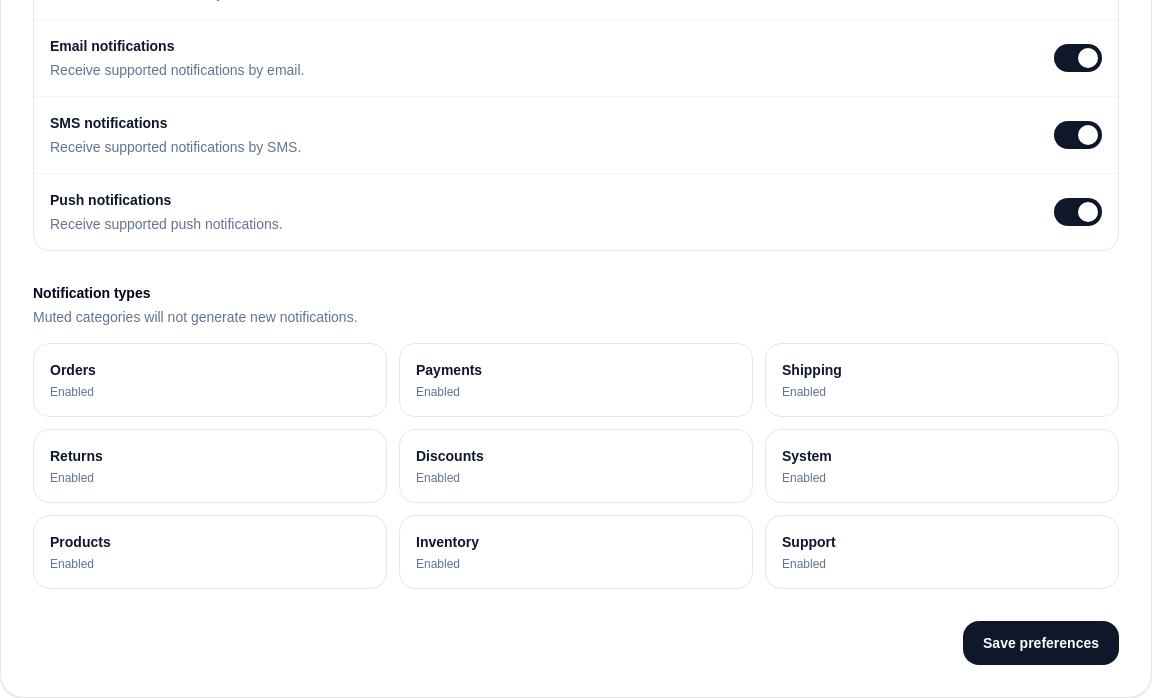
Test: NotificationPreferencesCard › shows API error when preferences cannot be saved
This screenshot has width=1152, height=698.
(page scrolled)
Click the button "Save preferences": (1041, 643) [963,621,1119,665]
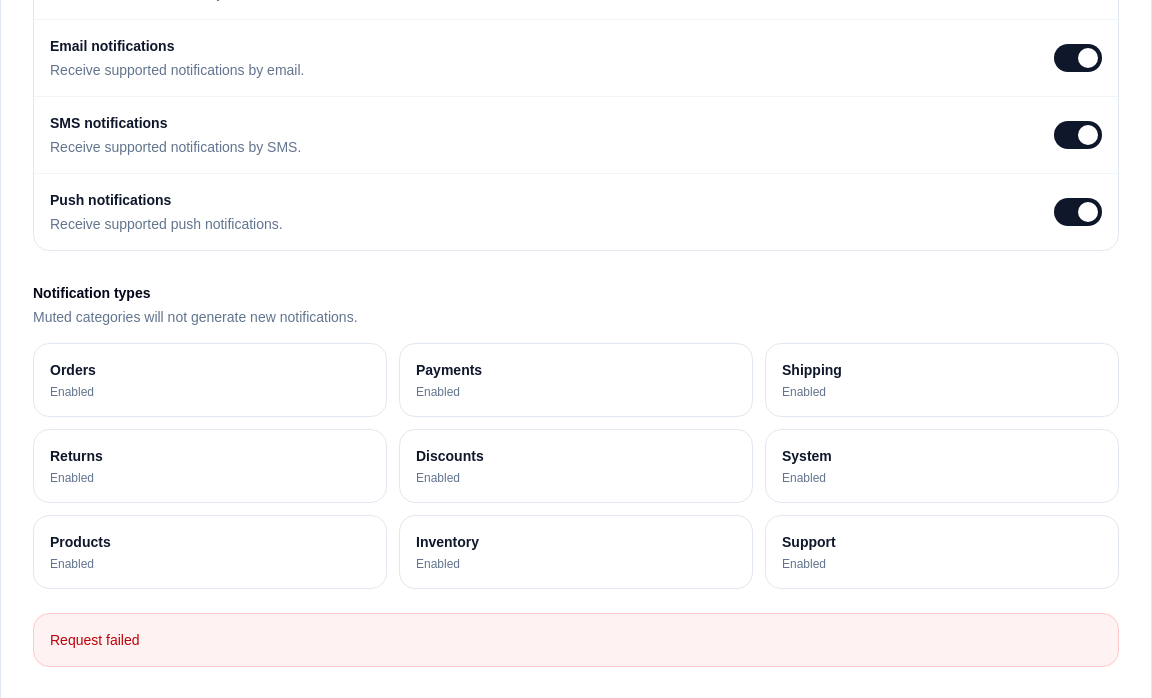
Expected: the text "Request failed" is shown, [33,613,1119,667]
